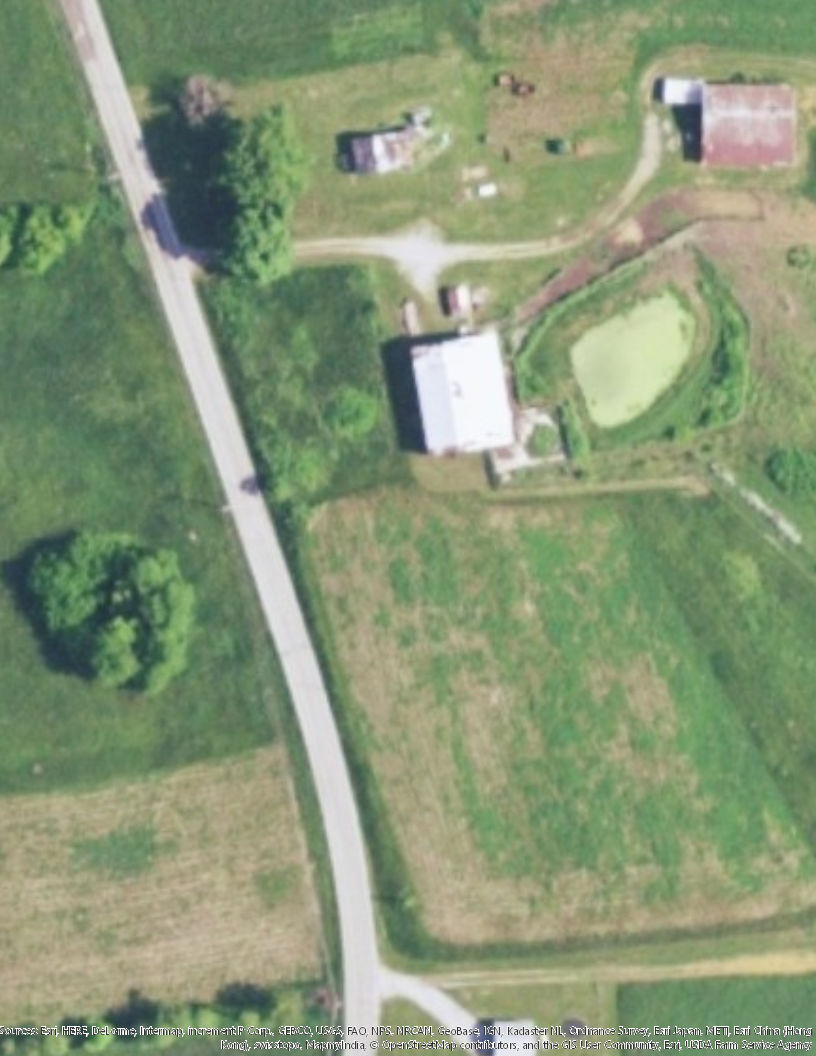cafo: (396, 303, 532, 465), (664, 76, 811, 173)
